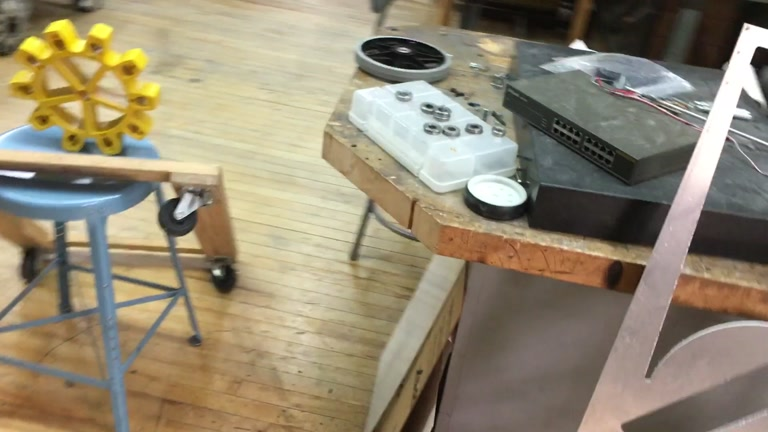gear: (9, 20, 162, 156)
